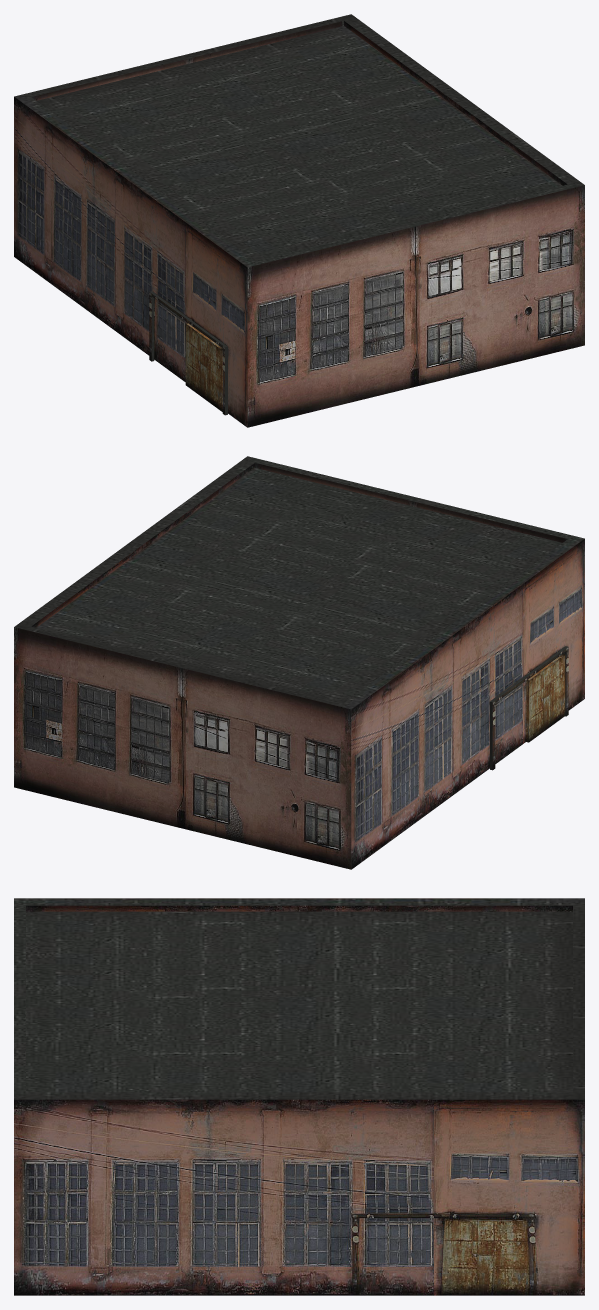
The model's file is sibir_zavod_korpus.FBX.
3 renders of one model, top to bottom at view 1: azimuth 30°, elevation 25°; view 2: azimuth 150°, elevation 25°; view 3: azimuth 270°, elevation 25°, orthographic. The views are drawn at different scales.
Visible parts, largest first — view 1: sibir_zavod_korpus; view 2: sibir_zavod_korpus; view 3: sibir_zavod_korpus.
Boxes of the visible parts, bbox=[...] form: sibir_zavod_korpus: bbox=[14, 14, 584, 427]; sibir_zavod_korpus: bbox=[14, 456, 584, 869]; sibir_zavod_korpus: bbox=[14, 898, 584, 1295].
Size of the model in its own units: 2309 by 2743 by 1046.
